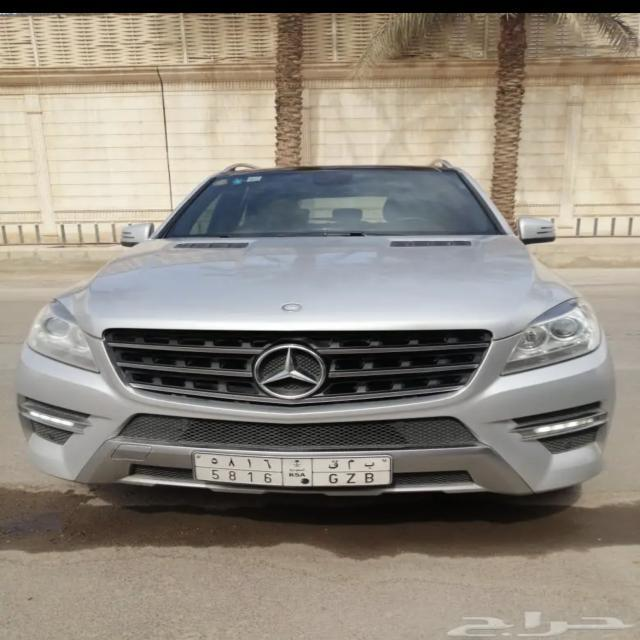license_plate: (193, 449, 394, 486)
